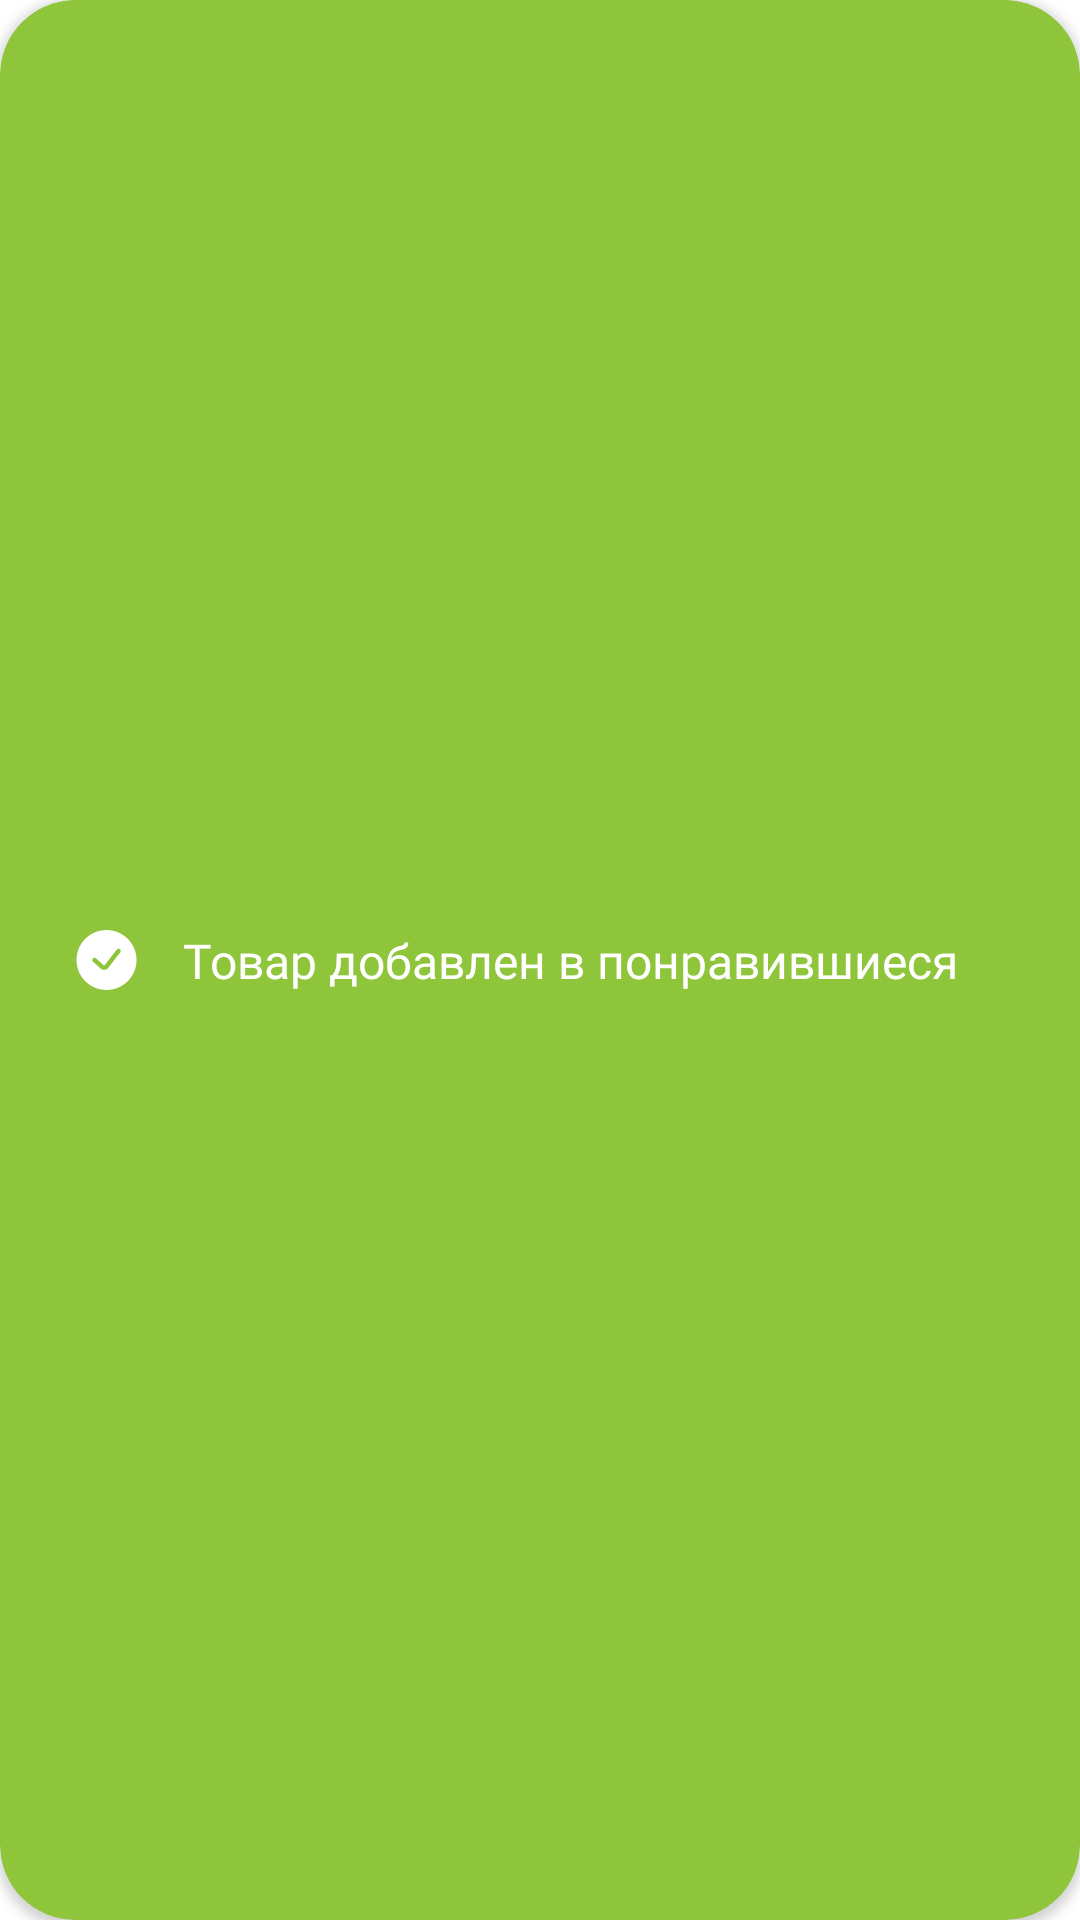

Where to tap for icons on this 1080x1920 app screen, as [x,y]:
check circle: [106,960]
